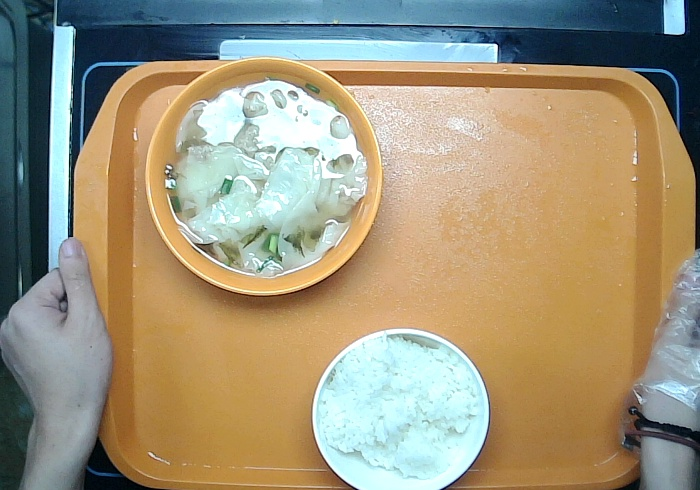NLDX-Fan_Wan: (311, 328, 492, 490)
NLDX-Hun_Tun_Wan: (145, 55, 382, 298)
